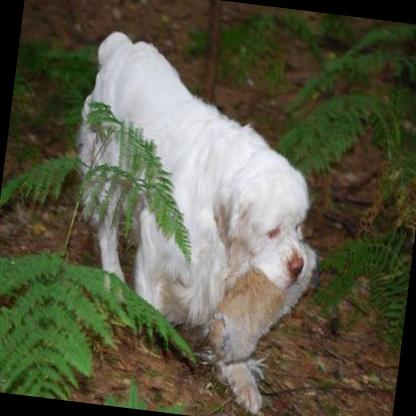clumber: (46, 23, 341, 416)
